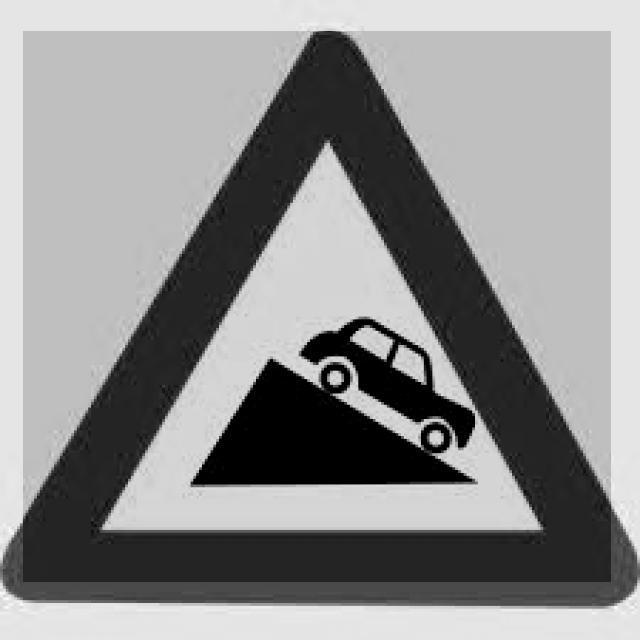steep descent: (14, 25, 618, 601)
